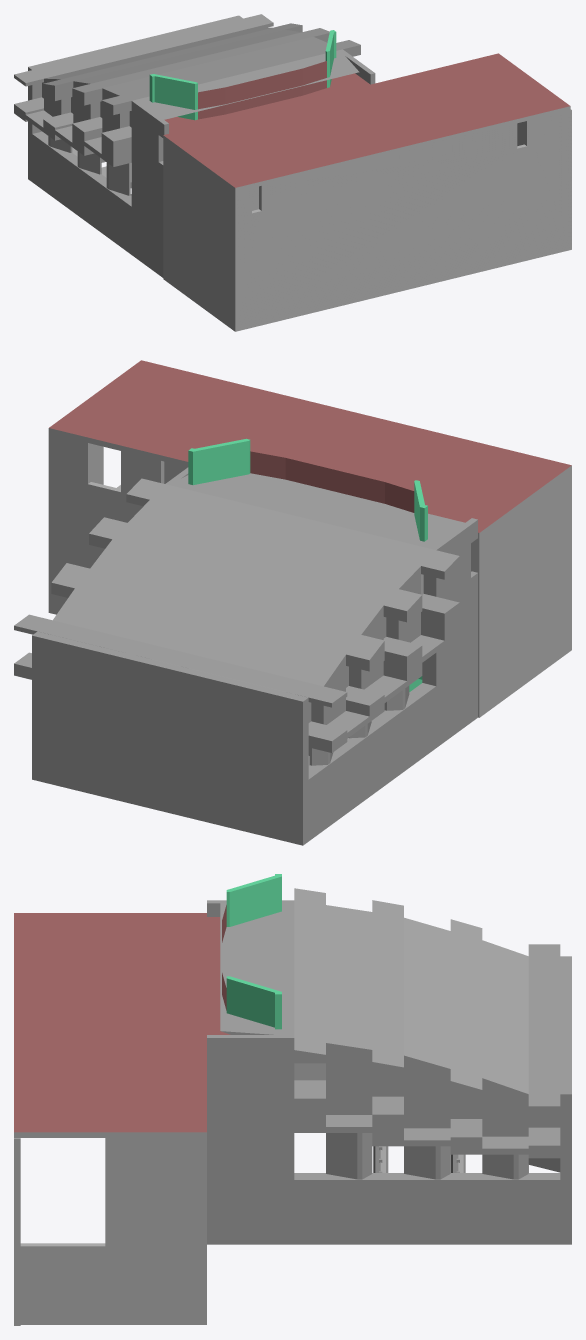
Rendered from theater.fbx.
3 renders of one model, top to bottom at view 1: azimuth 30°, elevation 25°; view 2: azimuth 150°, elevation 25°; view 3: azimuth 270°, elevation 25°, orthographic. The views are drawn at different scales.
Visible parts, largest first — view 1: polySurface397, polySurface1176, polySurface414, polySurface1213, polySurface408; view 2: polySurface1176, polySurface414, polySurface397, polySurface1213, polySurface406; view 3: polySurface1176, polySurface414, polySurface397, polySurface1213, polySurface407.
Boxes of the visible parts, x1,y1,x2,y2 form: polySurface397: (163,109,571,331); polySurface1176: (14,14,375,277); polySurface414: (163,53,569,187); polySurface1213: (149,30,336,120); polySurface408: (235,106,570,191); polySurface1176: (14,467,477,845); polySurface414: (49,360,571,532); polySurface397: (48,433,571,717); polySurface1213: (188,438,427,691); polySurface406: (48,428,188,467); polySurface1176: (207,888,571,1244); polySurface414: (14,905,230,1132); polySurface397: (14,1138,206,1325); polySurface1213: (226,874,281,1029); polySurface407: (14,1132,206,1137).
Bounding box in the file's own units: 33.43 × 16.27 × 34.09.
